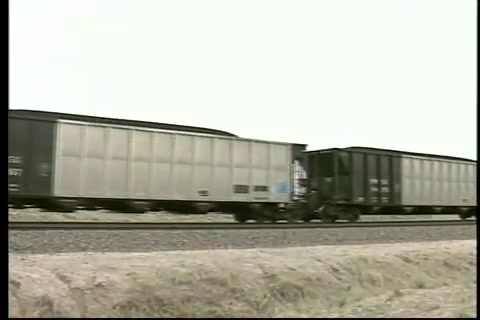train: (9, 109, 478, 225)
